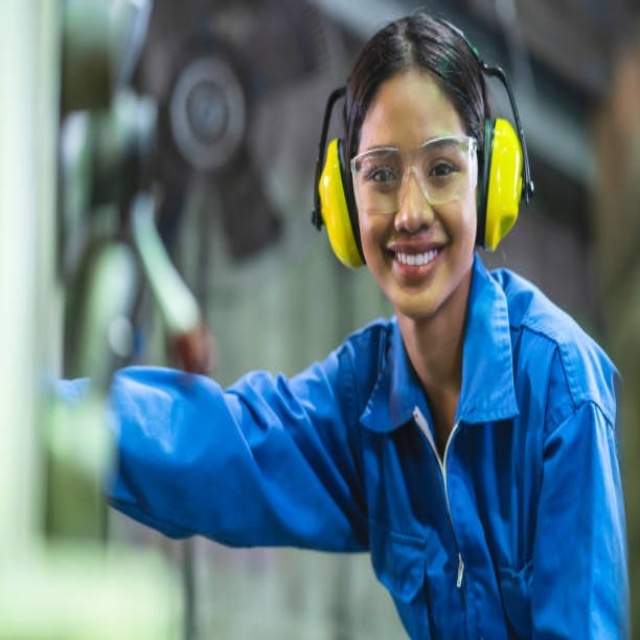Gafas: (348, 136, 479, 215)
Sin_mascara: (380, 234, 449, 307)
